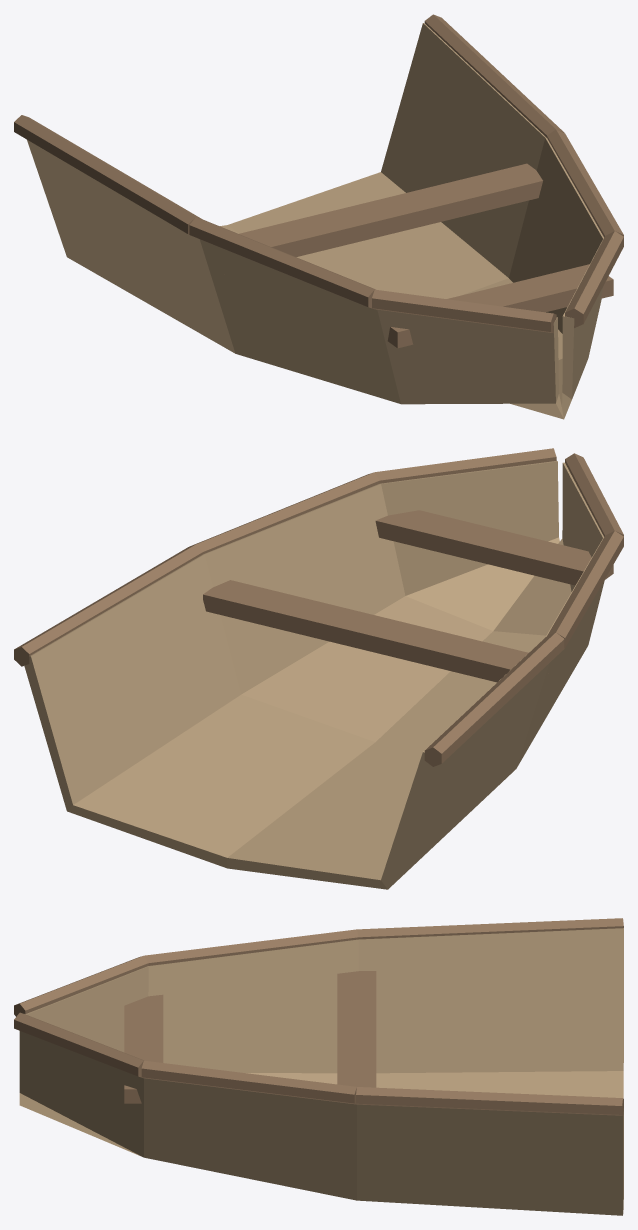
File: wreck_bow.glb
3 views of the same model, one above another, from view 1: azimuth 30°, elevation 25°; view 2: azimuth 150°, elevation 25°; view 3: azimuth 270°, elevation 25° (orthographic). The views are drawn at different scales.
Parts seen in each view (by area): view 1: Hull, Seat.001, Gunwale.004, Gunwale.002, Seat, Gunwale, Gunwale.005, Gunwale.003, Gunwale.001; view 2: Hull, Seat.001, Seat, Gunwale.004, Gunwale.005, Gunwale.002, Gunwale.003, Gunwale.001, Gunwale; view 3: Hull, Gunwale.005, Seat.001, Gunwale.003, Gunwale.004, Seat, Gunwale.001, Gunwale.002, Gunwale.
Boxes of the visible parts, box(x1,y1,x2,y2) form: Hull: box(27, 23, 603, 419); Seat.001: box(224, 163, 542, 274); Gunwale.004: box(14, 115, 202, 234); Gunwale.002: box(189, 217, 375, 308); Seat: box(387, 264, 613, 348); Gunwale: box(372, 289, 556, 333); Gunwale.005: box(424, 14, 564, 137); Gunwale.003: box(547, 129, 623, 237); Gunwale.001: box(565, 231, 623, 327); Hull: box(24, 461, 604, 889); Seat.001: box(203, 580, 548, 682); Seat: box(375, 510, 613, 585); Gunwale.004: box(424, 632, 564, 766); Gunwale.005: box(14, 544, 202, 666); Gunwale.002: box(547, 531, 623, 647); Gunwale.003: box(190, 472, 379, 554); Gunwale.001: box(375, 448, 556, 483); Gunwale: box(565, 453, 623, 536); Hull: box(19, 928, 623, 1215); Gunwale.005: box(356, 1087, 623, 1115); Seat.001: box(337, 971, 376, 1087); Gunwale.003: box(141, 1060, 356, 1104); Gunwale.004: box(357, 918, 623, 939); Seat: box(124, 994, 163, 1103); Gunwale.001: box(14, 1013, 144, 1077); Gunwale.002: box(144, 929, 358, 965); Gunwale: box(14, 955, 148, 1016).
Size of the model in its own units: 2.49 by 0.955 by 3.44.
